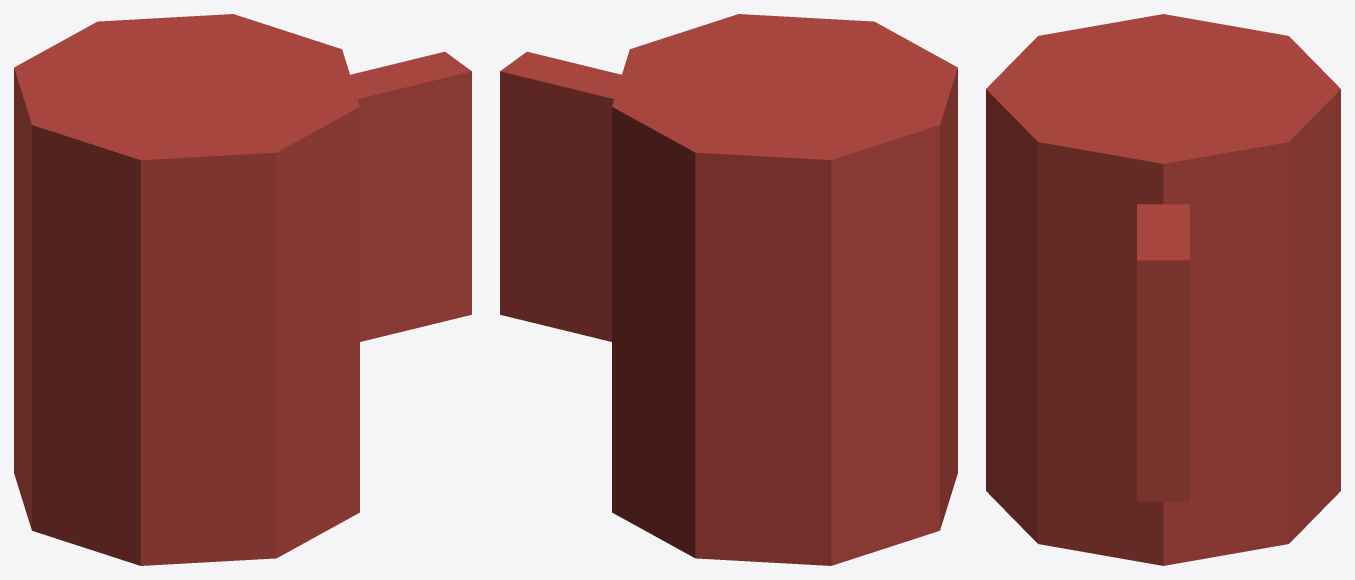
Rendered from GH_Mug_01.glb.
3 views of the same model, side by side, from view 1: azimuth 30°, elevation 25°; view 2: azimuth 150°, elevation 25°; view 3: azimuth 270°, elevation 25° (orthographic).
Parts seen in each view (by area): view 1: GH_Mug_01; view 2: GH_Mug_01; view 3: GH_Mug_01.
Part boxes in pixels (x1,y1,x2,y2): GH_Mug_01: [14, 14, 471, 565]; GH_Mug_01: [500, 14, 957, 565]; GH_Mug_01: [986, 14, 1340, 565].
Size of the model in its own units: 0.11 by 0.1 by 0.08.
1 material, 1 textured.
